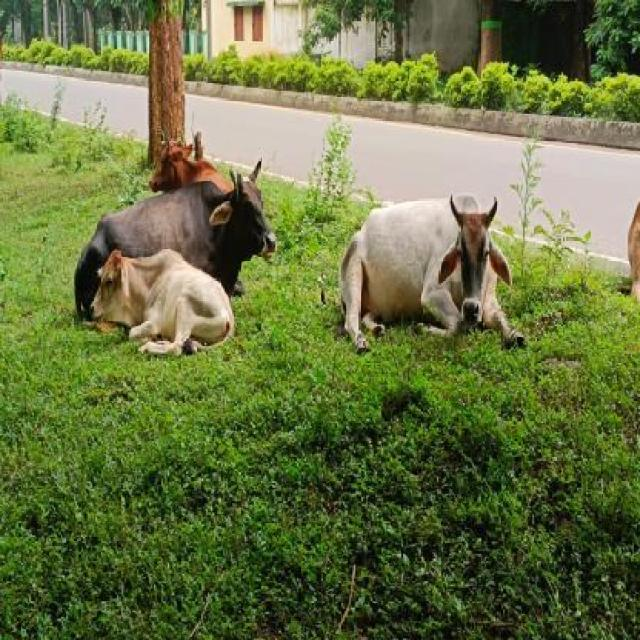cow: (334, 196, 526, 355), (82, 175, 278, 291)
